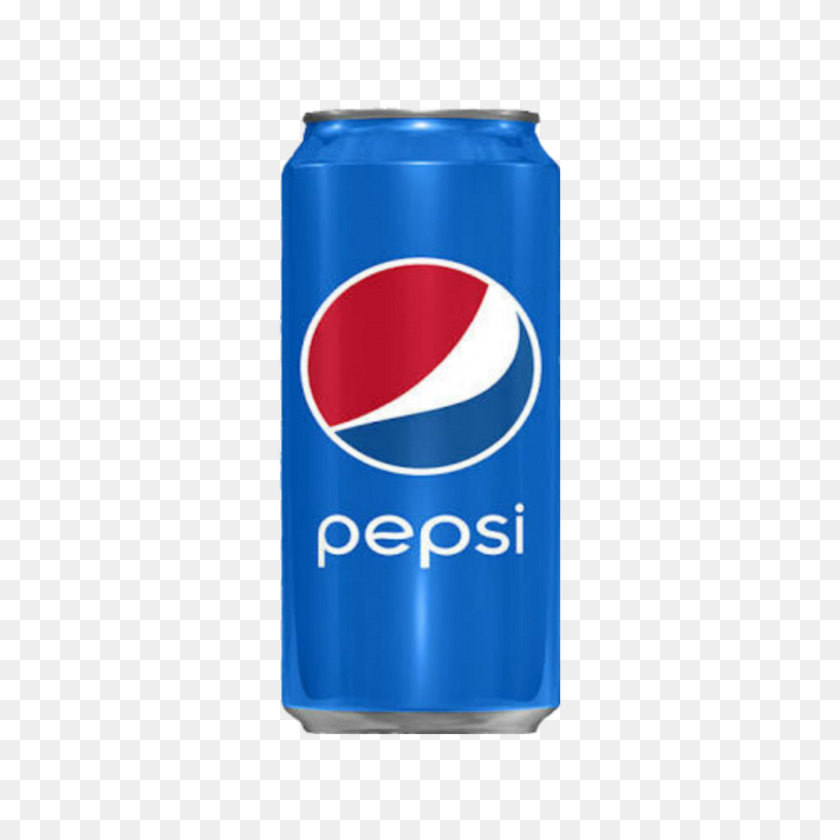pepsi: (280, 108, 560, 739)
